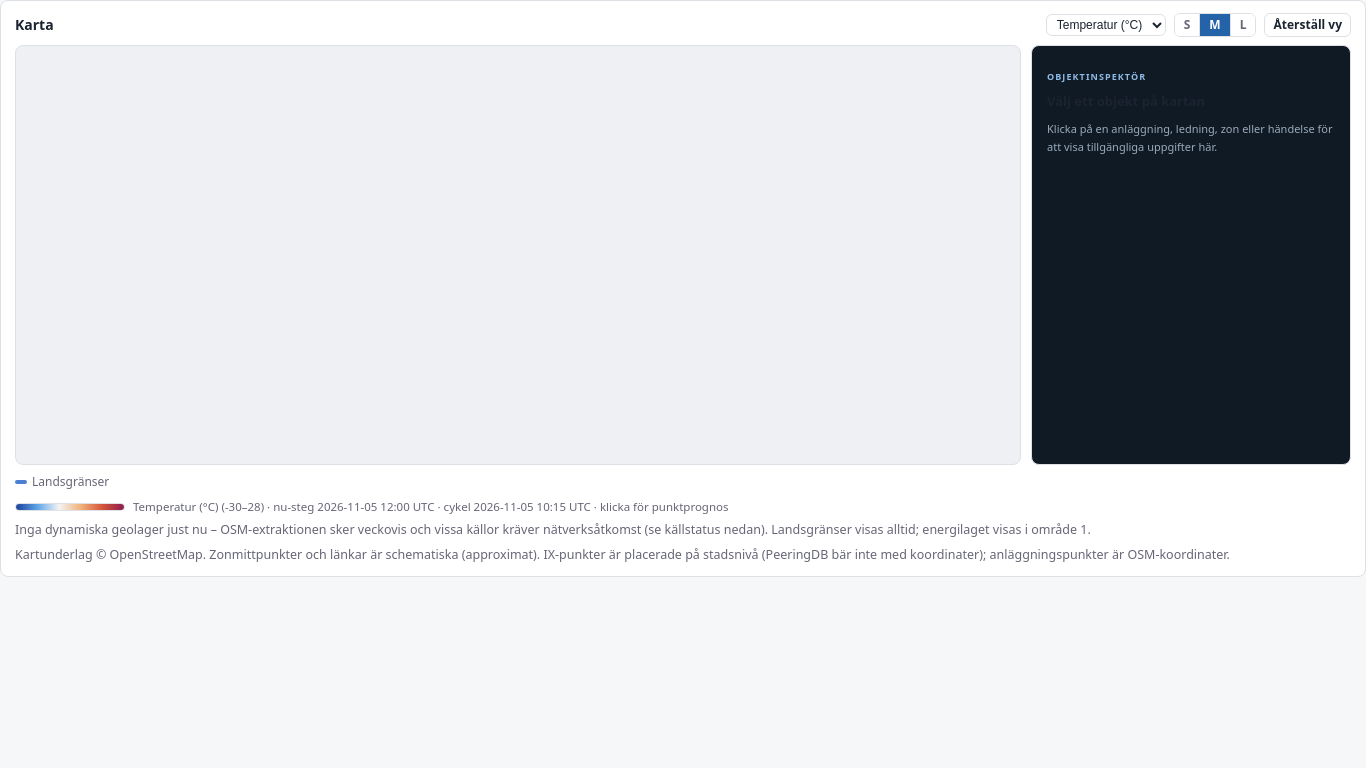
Test: MapPanel – prognosrutnät (M8) › parameterväxling → ny fetch vid nu-steget; legenden följer med
This screenshot has width=1366, height=768.
Select "Vindbyar (m/s)" in the dropdown named "Prognosparameter". click: (1106, 25)
box: x1=1046 y1=14 x2=1166 y2=36
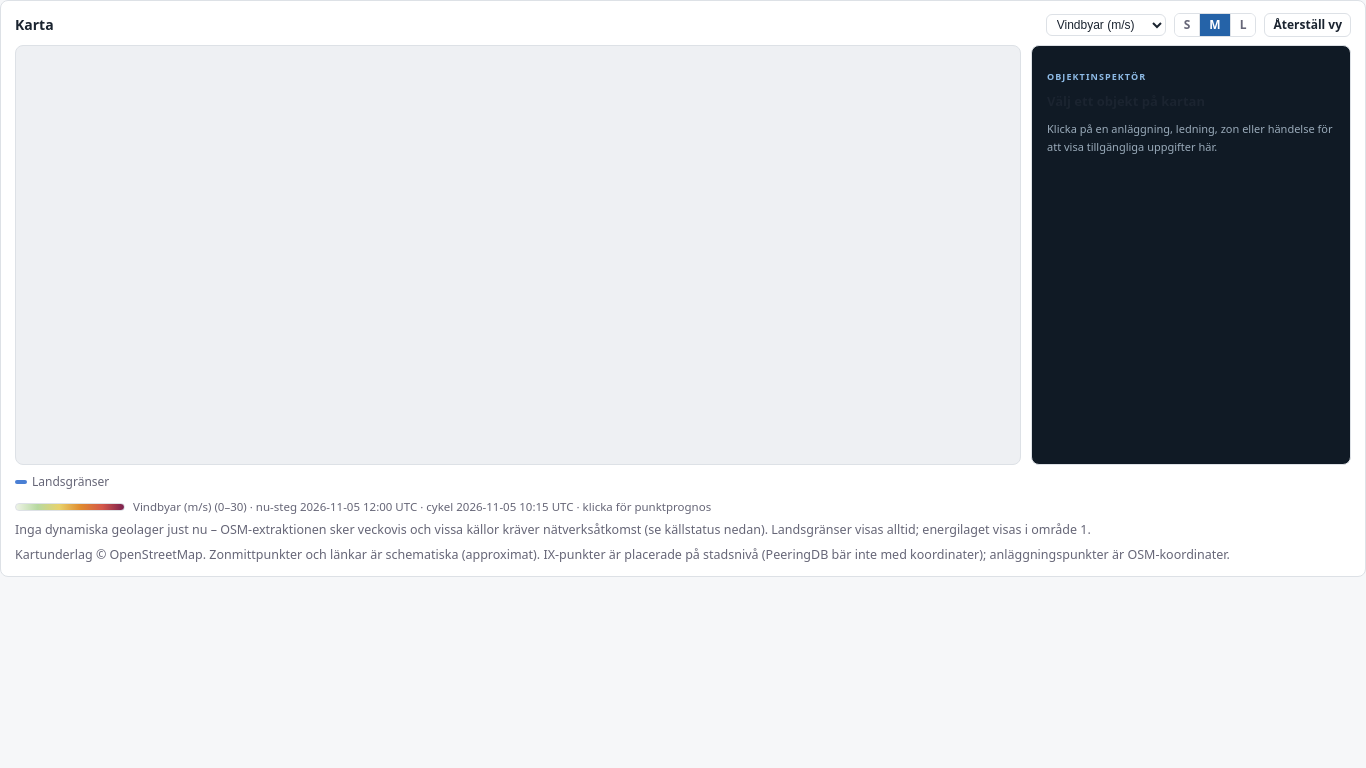
Check: the element with class "wxlegend" shows "Vindbyar (m/s)", box x1=133 y1=499 x2=211 y2=514
